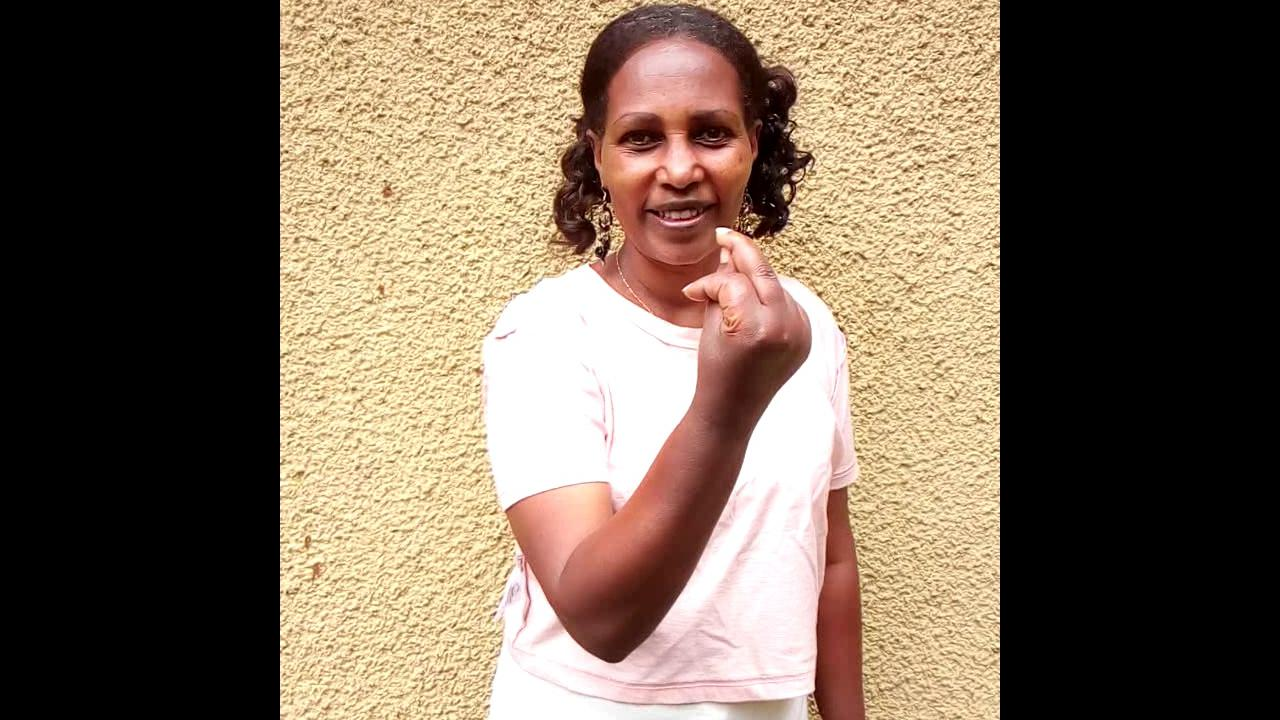CHE: (684, 228, 812, 504)
